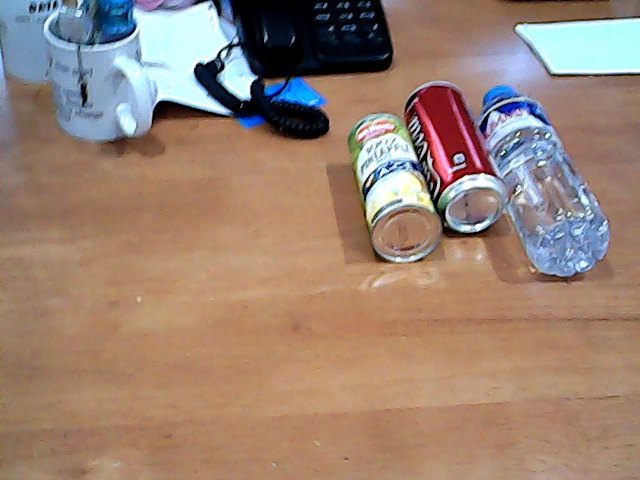Cola: (394, 70, 511, 238)
Pine Juice: (333, 105, 445, 269)
Summit Water: (470, 67, 614, 294)
